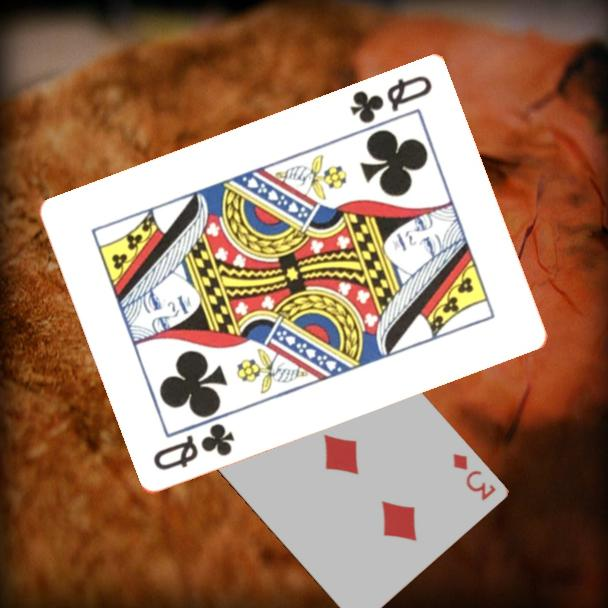c12: (346, 72, 435, 127), (149, 420, 237, 474)
d03: (449, 450, 499, 503)
